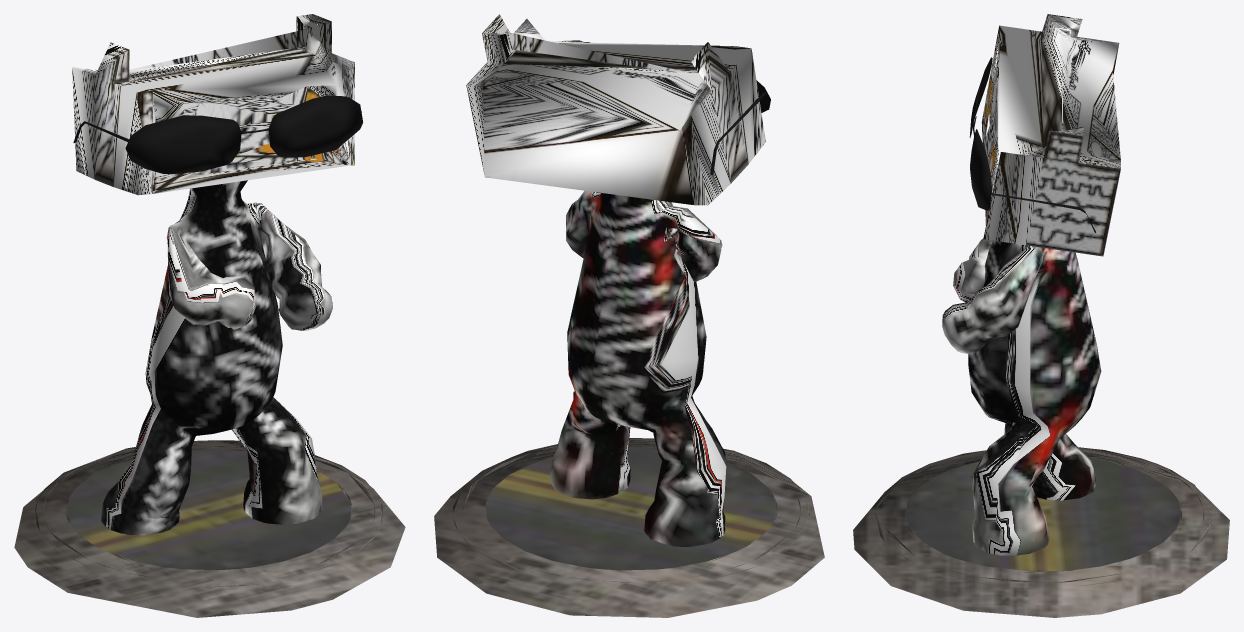
The picture shows the model from 3 angles, left to right: view 1: azimuth 30°, elevation 25°; view 2: azimuth 150°, elevation 25°; view 3: azimuth 270°, elevation 25°; orthographic projection. The views are drawn at different scales.
Size of the model in its own units: 1.44 by 2.03 by 1.43.
Materials: 5 (4 with a texture image).
